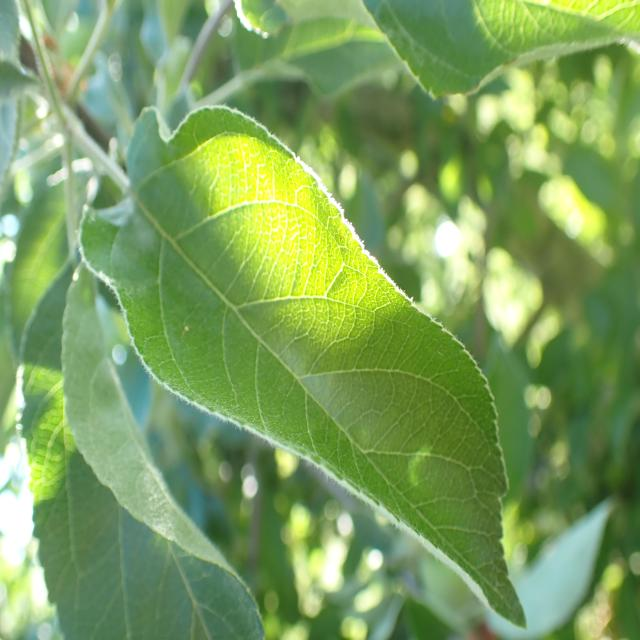healthy: (80, 102, 527, 630), (17, 244, 267, 640), (362, 0, 640, 100)
